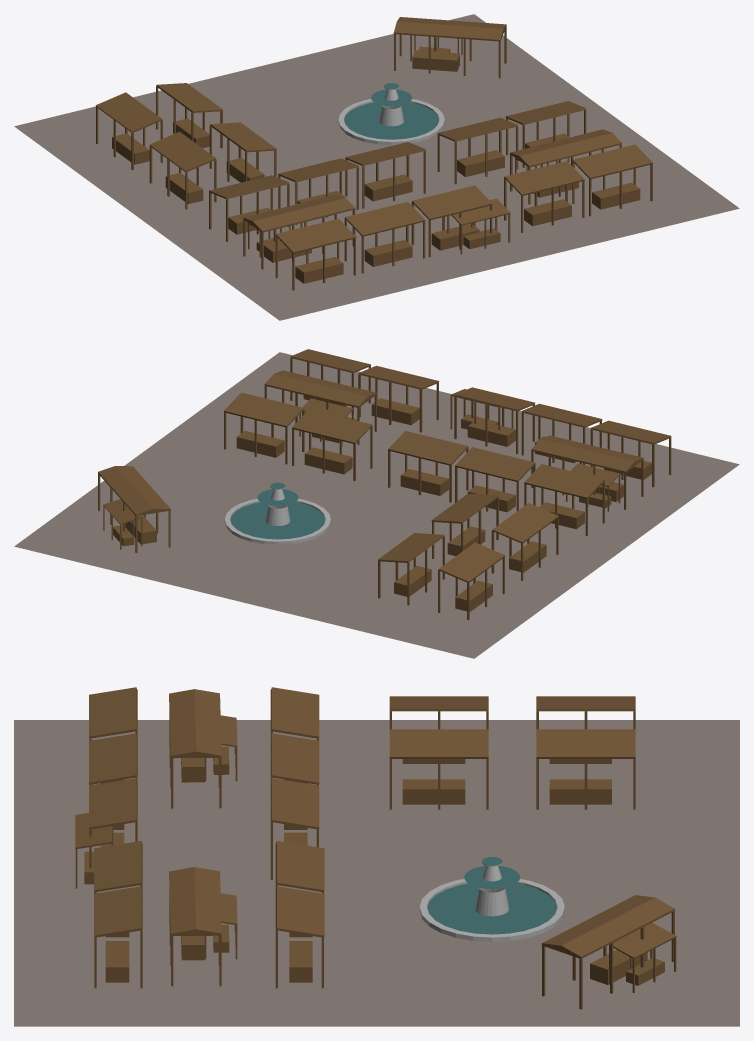
The model's file is rrrr.obj.
The picture shows the model from 3 angles, top to bottom: view 1: azimuth 30°, elevation 25°; view 2: azimuth 150°, elevation 25°; view 3: azimuth 270°, elevation 25°; orthographic projection. The views are drawn at different scales.
Parts seen in each view (by area): view 1: rrrr; view 2: rrrr; view 3: rrrr.
Boxes of the visible parts, box(x1,y1,x2,y2) form: rrrr: box(14, 14, 739, 320); rrrr: box(14, 349, 739, 658); rrrr: box(14, 687, 739, 1026).
Size of the model in its own units: 30 by 2.75 by 30.
